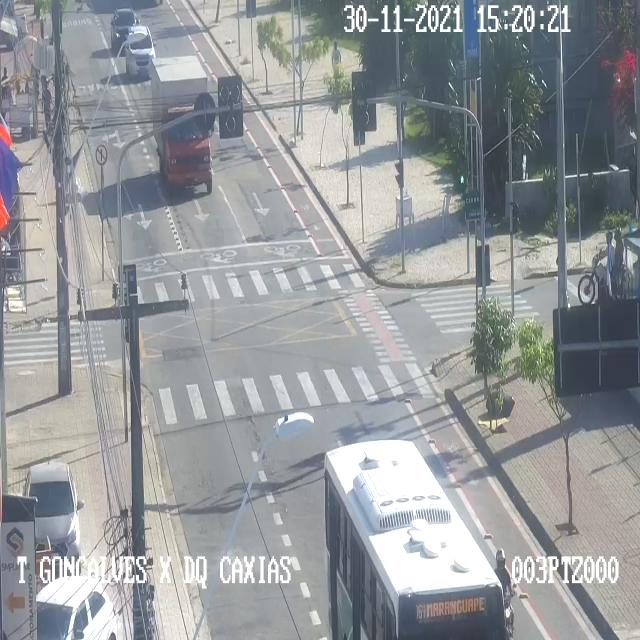Bus: (323, 437, 507, 639)
Car: (23, 463, 83, 561), (36, 575, 118, 639), (124, 26, 157, 84), (110, 6, 137, 51)
Motorcycle: (577, 230, 639, 302), (494, 545, 528, 639)
Truck: (150, 58, 212, 194)
